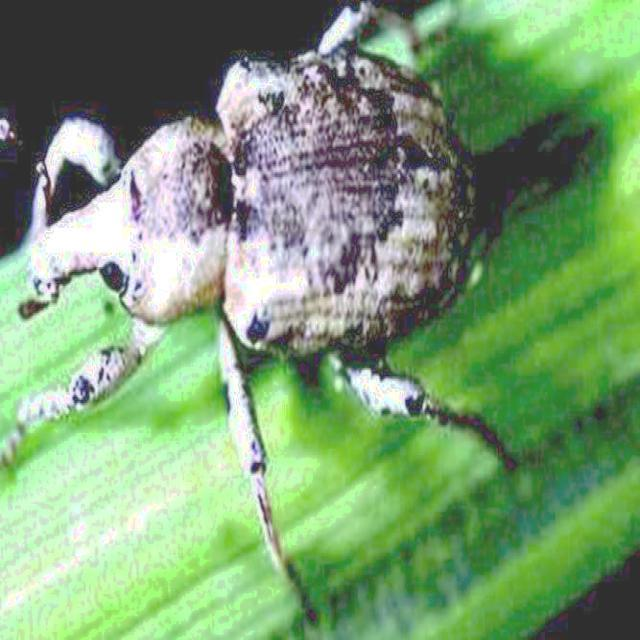rice-bug: (20, 14, 492, 480)
